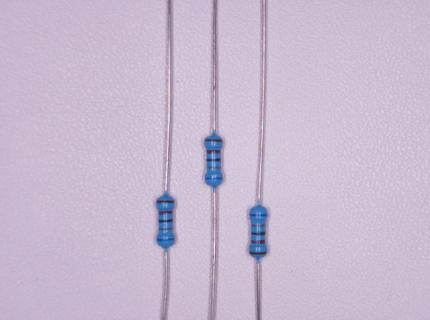Black band: (159, 219, 172, 223), (207, 158, 221, 161), (251, 232, 265, 235)
Blue band: (157, 238, 175, 241), (205, 177, 223, 179), (250, 214, 268, 216)
Brown band: (205, 139, 223, 142), (249, 252, 267, 255), (157, 200, 174, 203)
Grey band: (159, 227, 173, 230), (207, 166, 221, 169), (251, 225, 265, 227)
Red band: (207, 150, 221, 154), (159, 211, 172, 215), (252, 240, 265, 244)
